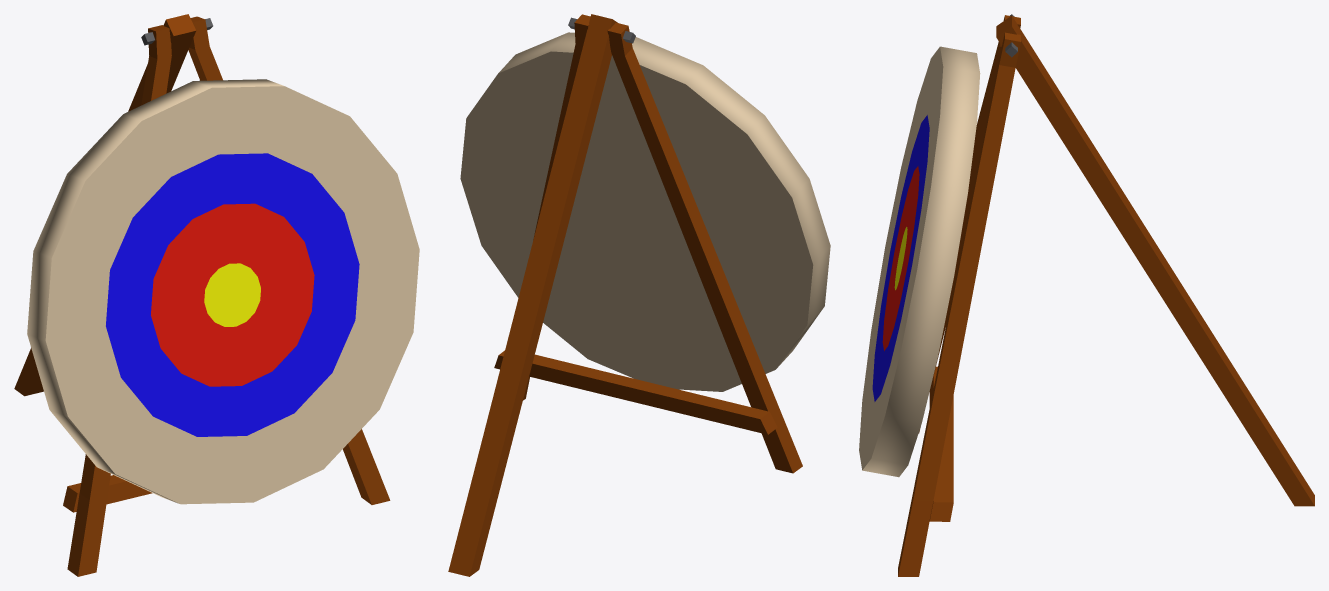
File: mesh_target_white.fbx
3 renders of one model, left to right at view 1: azimuth 30°, elevation 25°; view 2: azimuth 150°, elevation 25°; view 3: azimuth 270°, elevation 25°, orthographic. The views are drawn at different scales.
Visible parts, largest first — view 1: mesh_target_white; view 2: mesh_target_white; view 3: mesh_target_white.
Part boxes in pixels (x1,y1,x2,y2): mesh_target_white: (14,14,419,576); mesh_target_white: (448,14,830,576); mesh_target_white: (859,14,1314,576).
Bounding box in the file's own units: 98.75 × 121 × 104.
